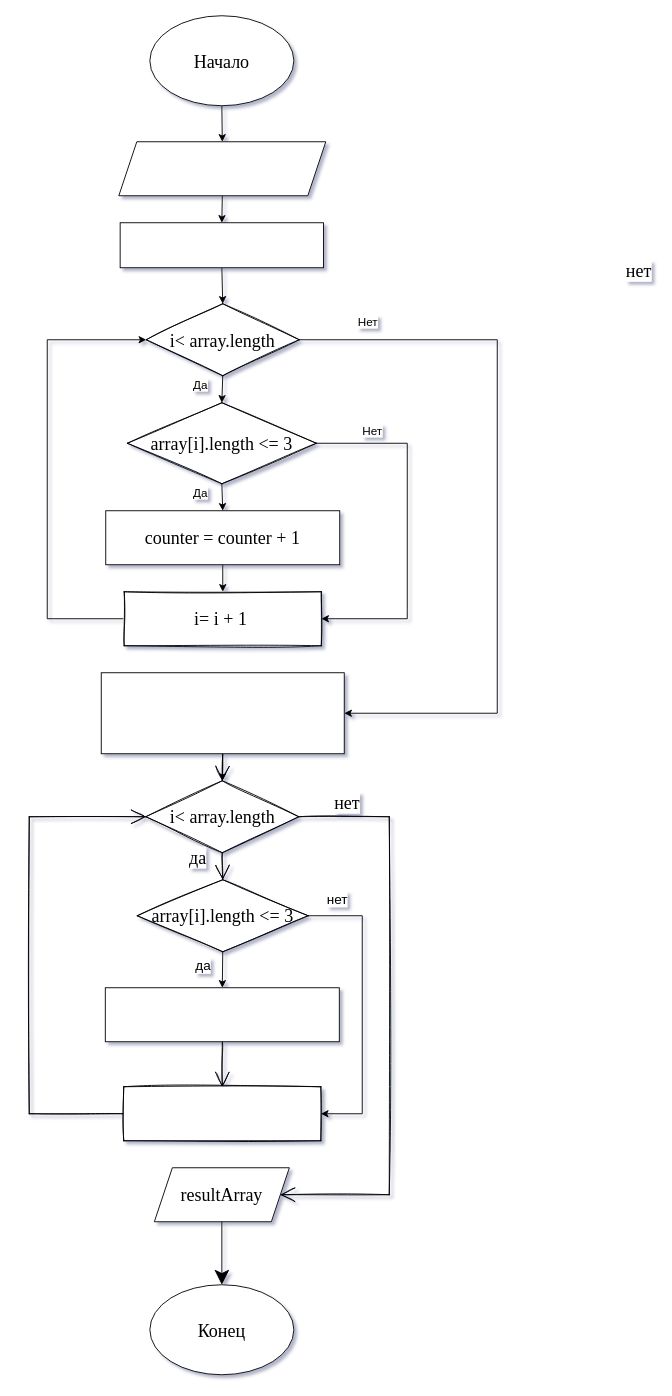
The diagram is 672 pixels wide and 1396 high, and some of its shapes have lost their labels. The shapes that lost their labels are listed below. From the top down, each one's centre as x and y in pixels, then its label:
point 222,168: string array
point 221,245: i = 0 counter = 0
point 222,713: create resultArray = [counter] j = 0 i = 0
point 221,1014: resultArray[j] = array[i] j = j + 1
point 222,1113: i = i + 1
